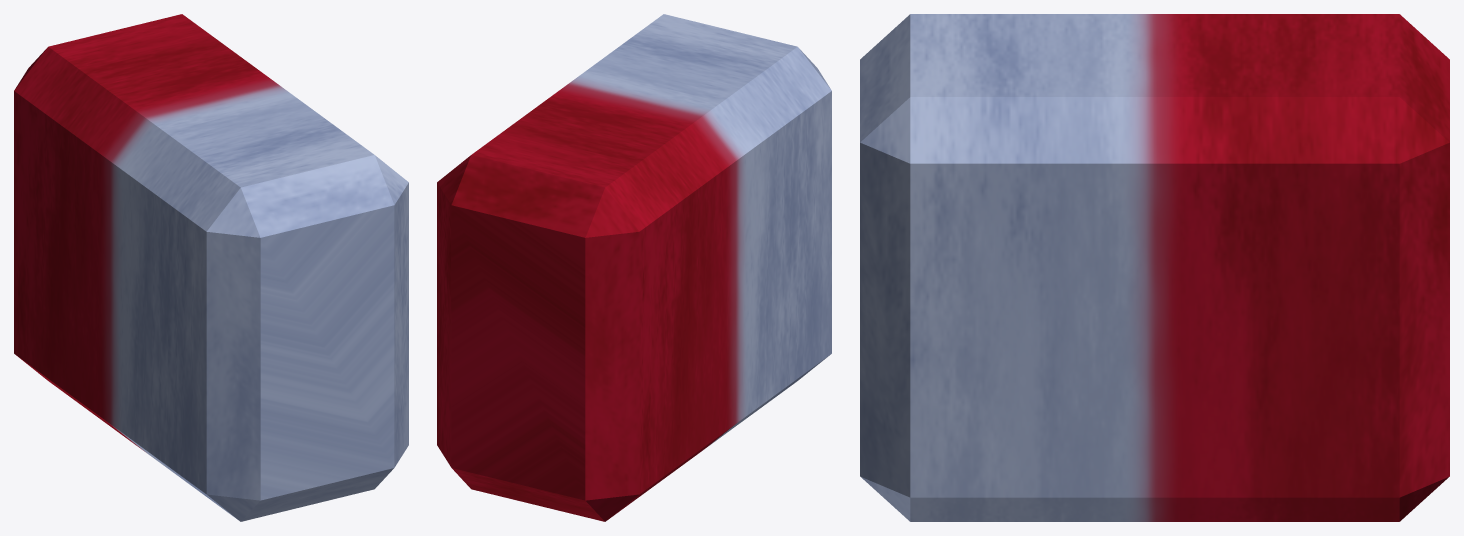
File: rubber.fbx
The picture shows the model from 3 angles, left to right: view 1: azimuth 30°, elevation 25°; view 2: azimuth 150°, elevation 25°; view 3: azimuth 270°, elevation 25°; orthographic projection. The views are drawn at different scales.
Parts seen in each view (by area): view 1: Cube.009; view 2: Cube.009; view 3: Cube.009.
Part boxes in pixels (left/top/right/bottom): Cube.009: left=14, top=14, right=408, bottom=521; Cube.009: left=437, top=14, right=831, bottom=521; Cube.009: left=860, top=14, right=1449, bottom=521.
Size of the model in its own units: 21.32 by 33.66 by 42.34.
1 material, 1 textured.
